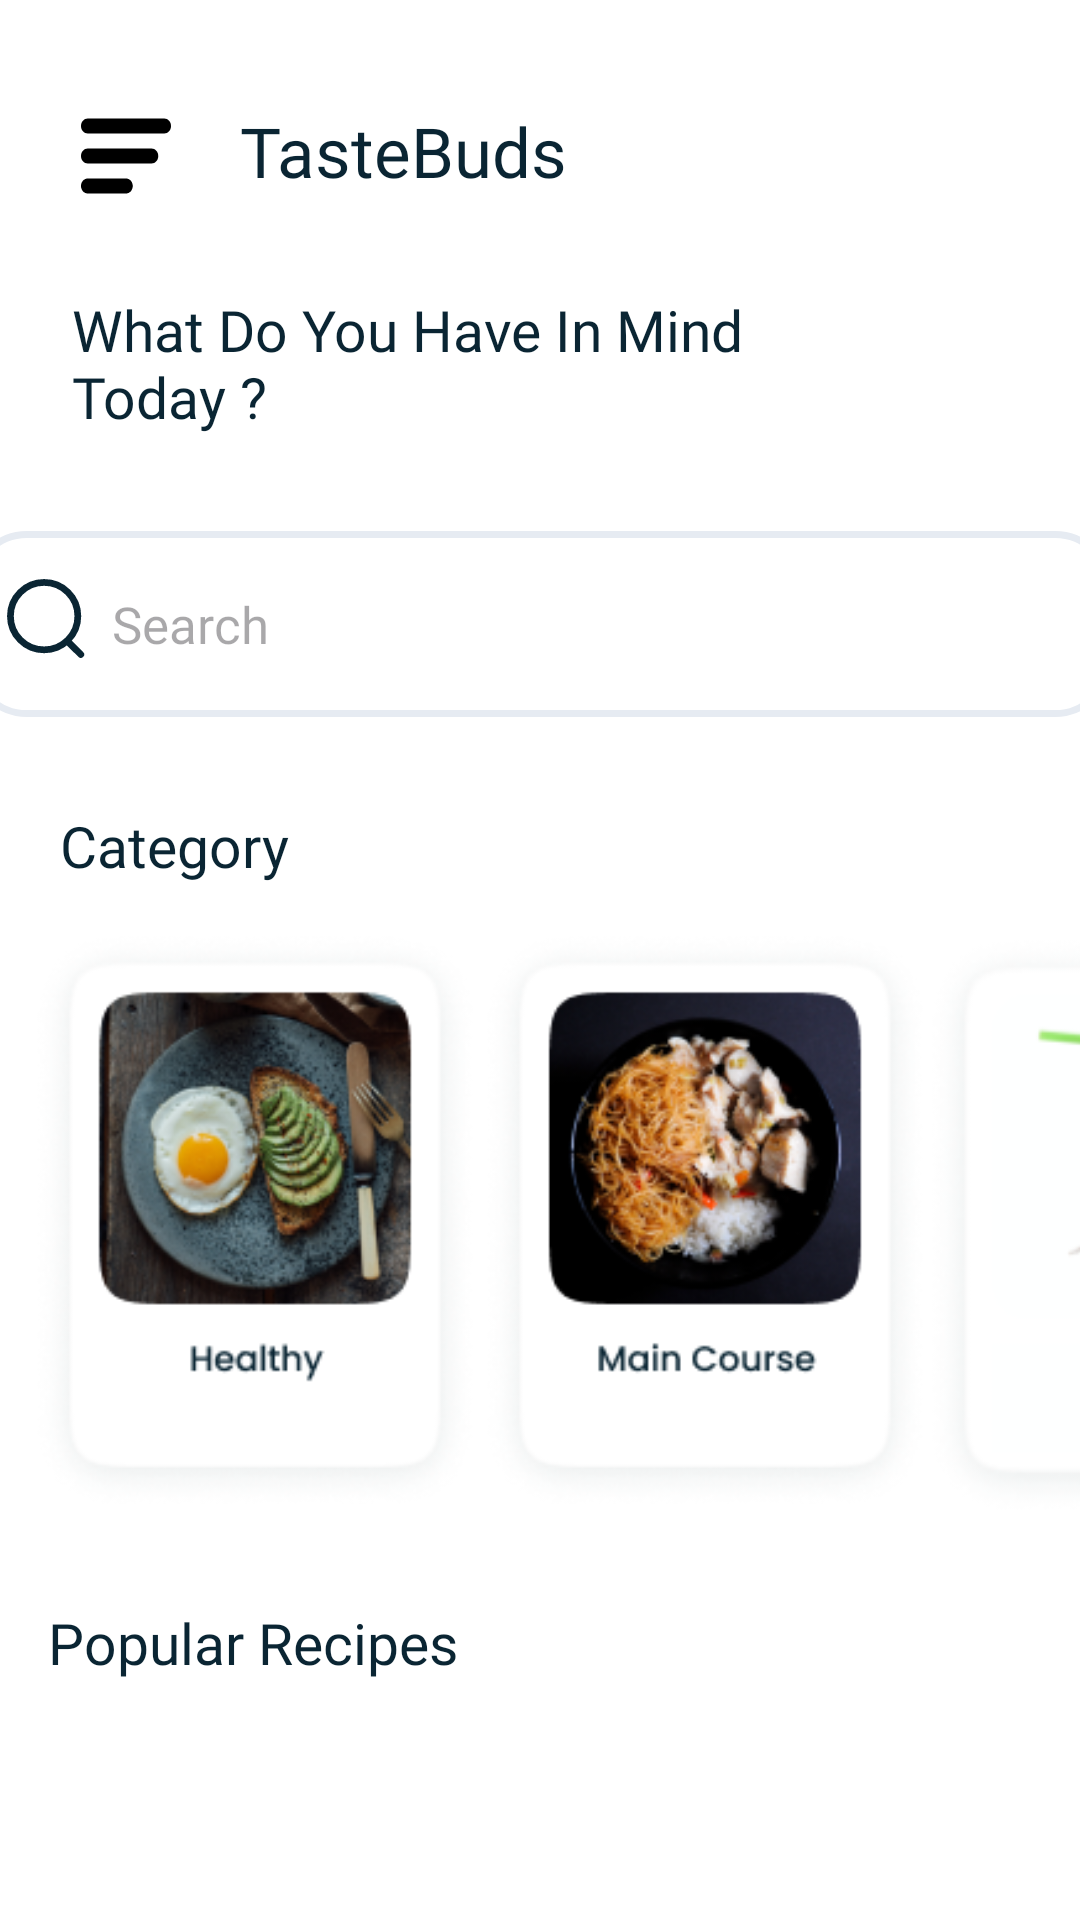

Named icons in this screenshot (1080*1920) and their centers, [x,y]:
noun menu bar: [126,156]
